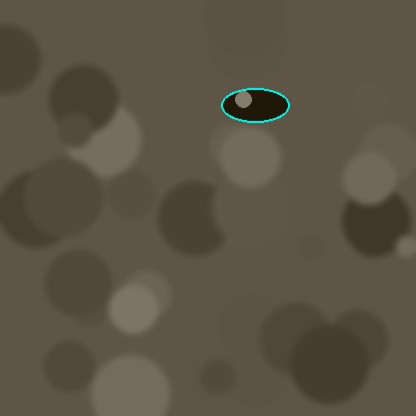gota: (221, 89, 289, 125)
